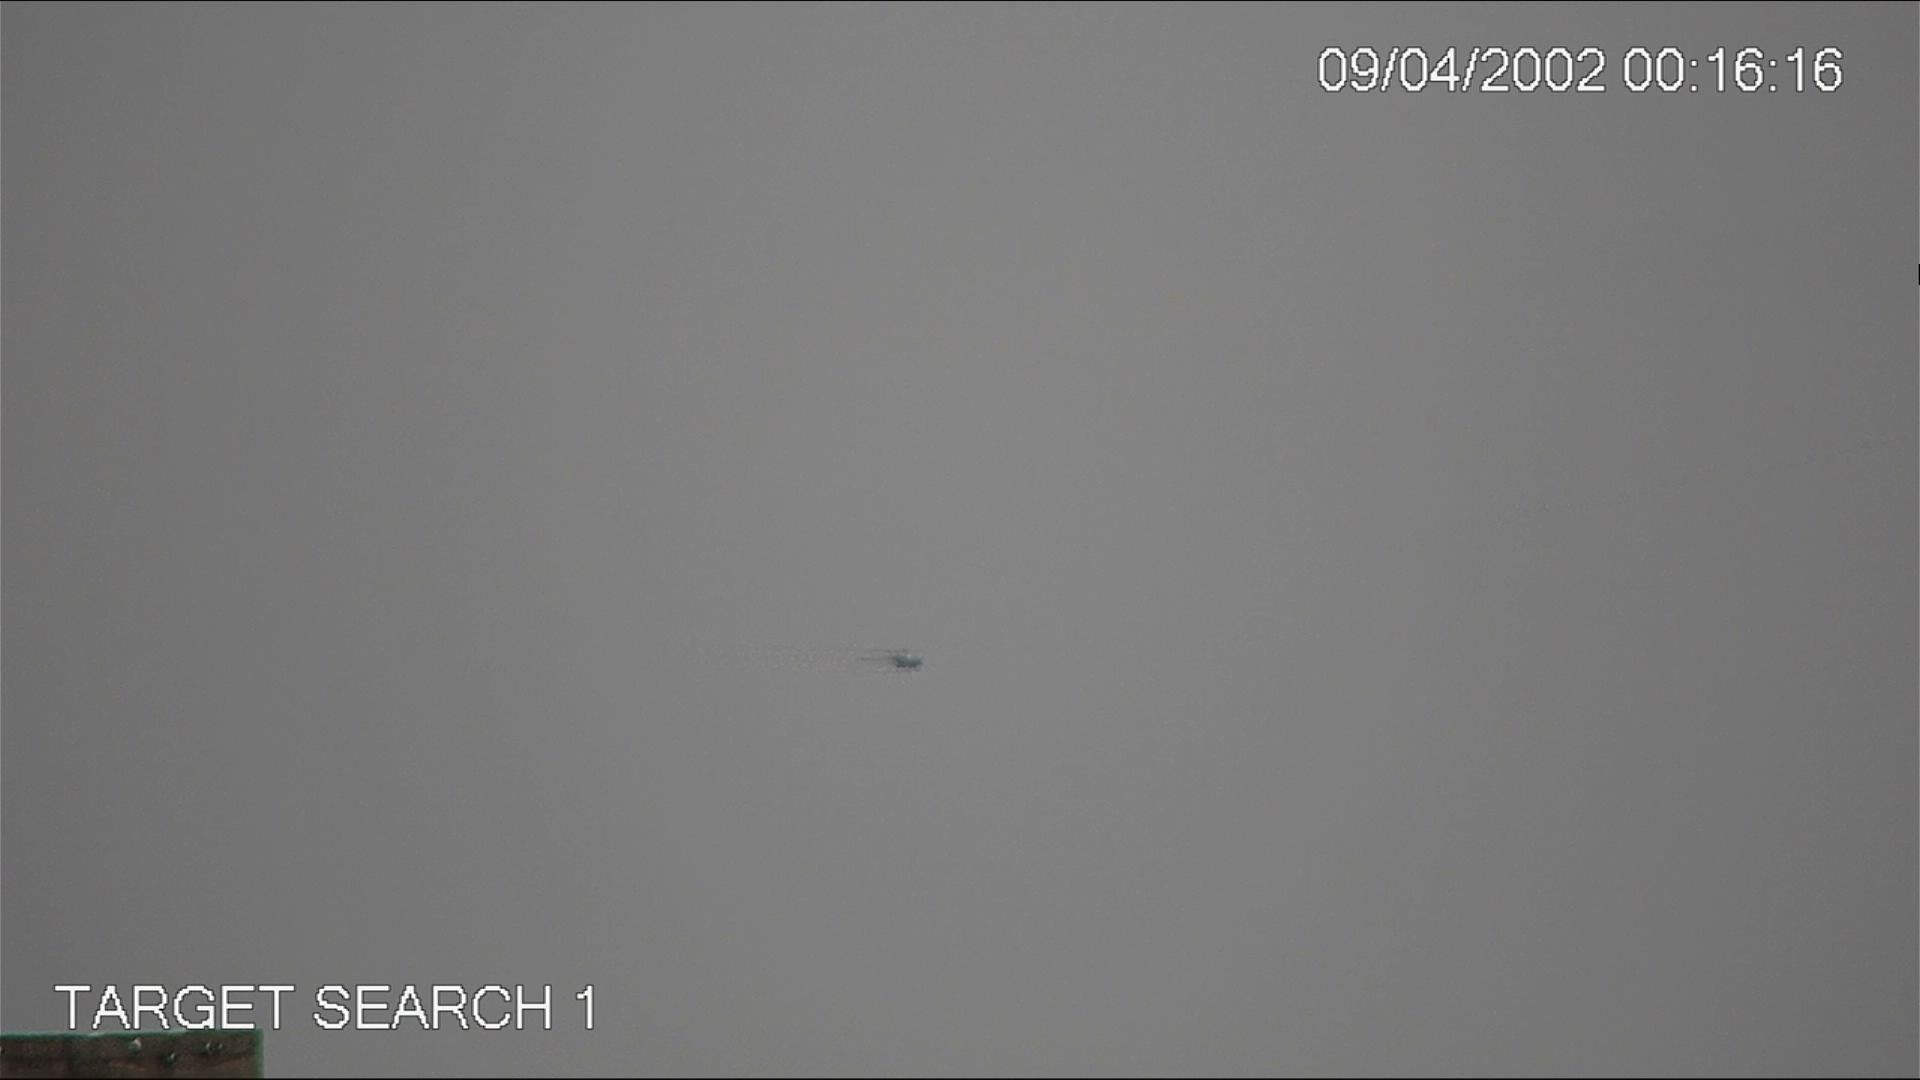SU_30: (884, 647, 922, 669)
